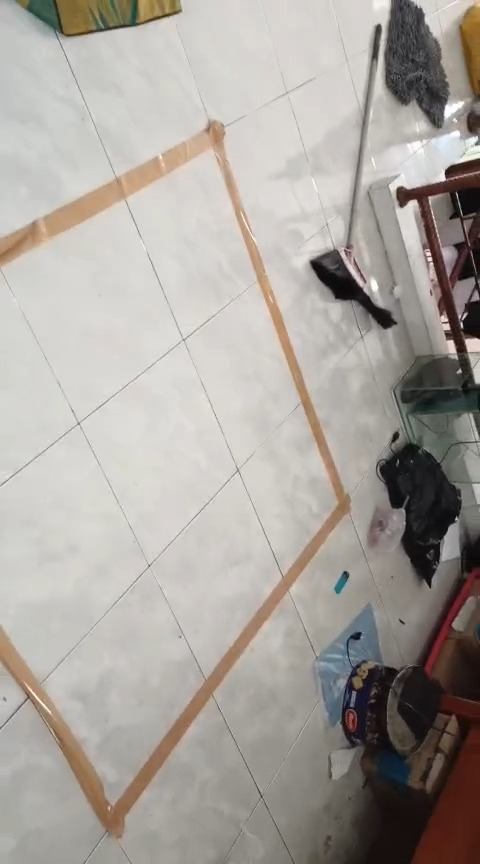floor marking: (0, 122, 349, 836)
